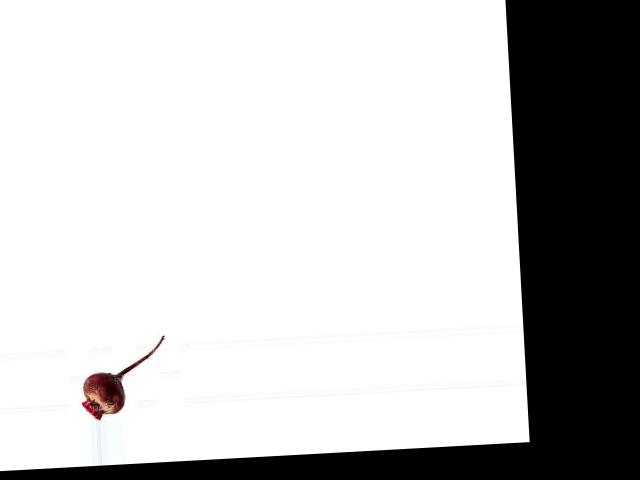beet: (79, 335, 169, 421)
